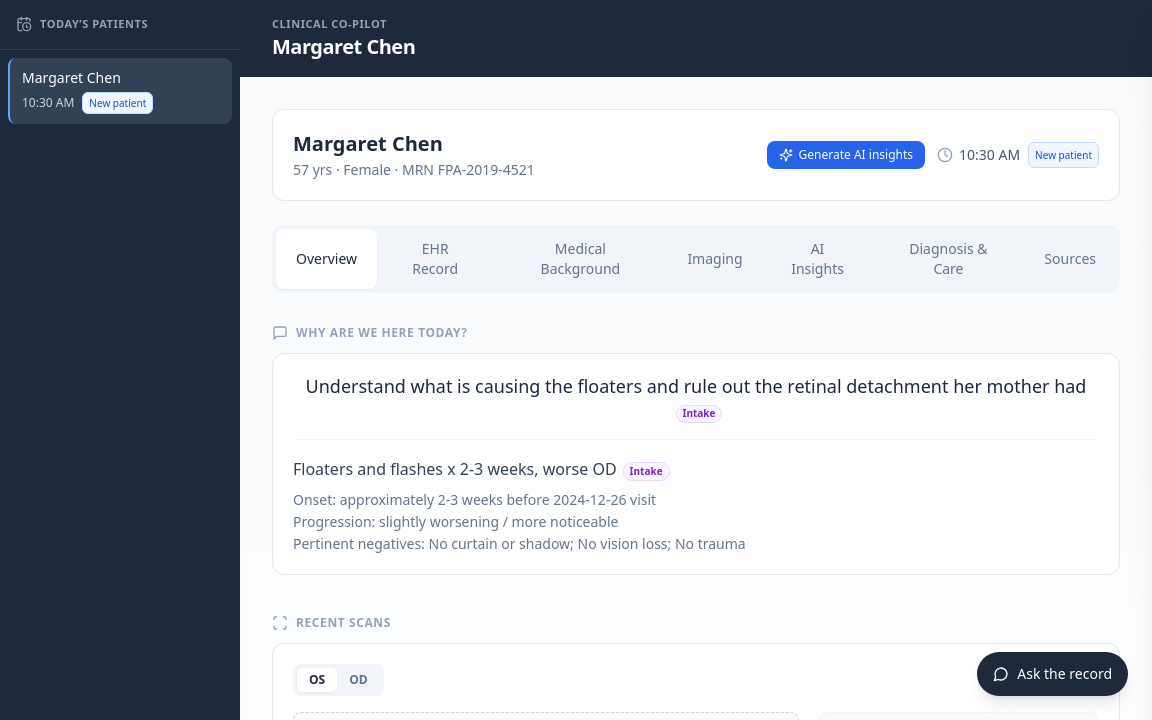
it: EHR Record tab › surfaces a 409 not_linked as an inline message, never a crash
Click the tab "EHR Record": (435, 258) [377, 228, 493, 288]
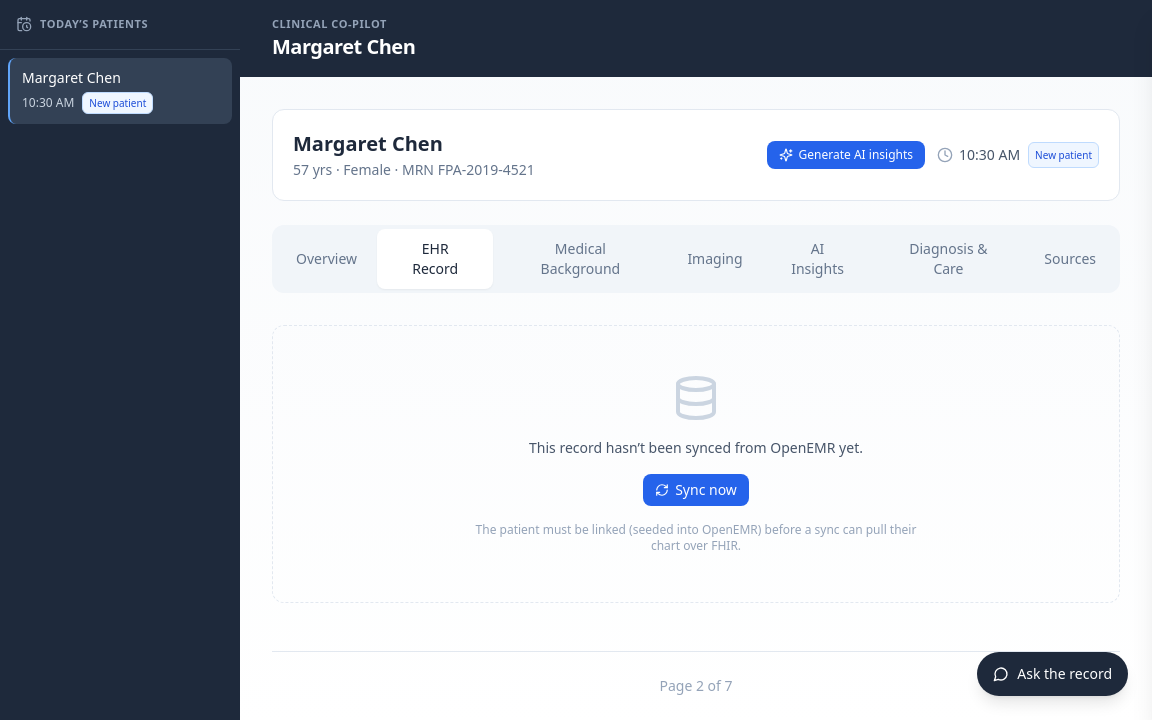
Click the button "Sync now": (696, 490) [643, 474, 749, 506]
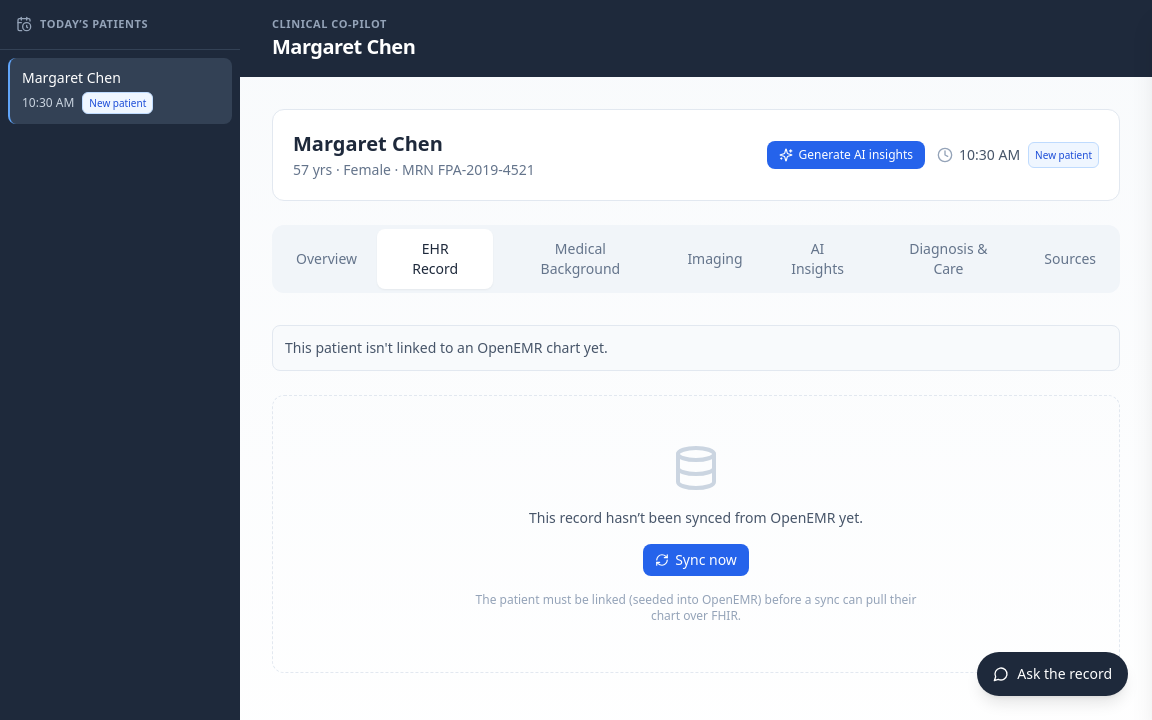
Now the text "This patient isn't linked to an OpenEMR chart yet." is shown, box [272, 324, 1120, 370]
